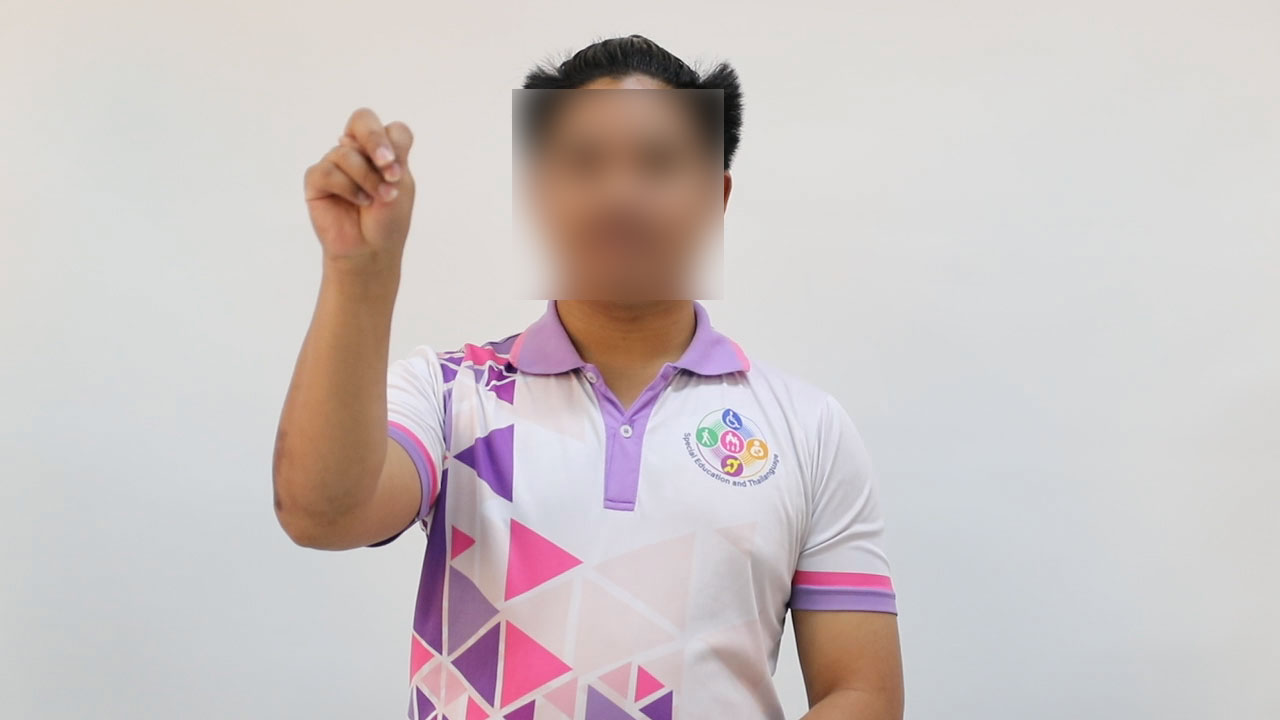nor: (288, 101, 433, 273)
